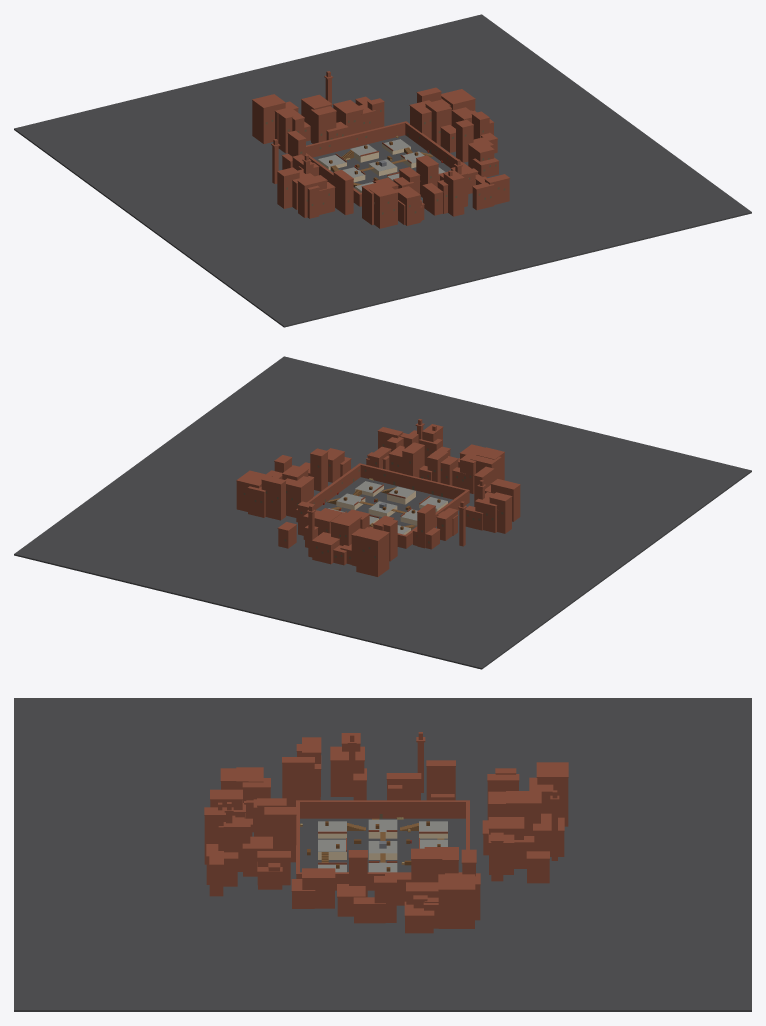
The model's file is fy_aq_rooftops.glb.
3 views of the same model, one above another, from view 1: azimuth 30°, elevation 25°; view 2: azimuth 150°, elevation 25°; view 3: azimuth 270°, elevation 25° (orthographic). The views are drawn at different scales.
Visible parts, largest first — view 1: skyline, fy_aq_rooftops; view 2: skyline, fy_aq_rooftops; view 3: skyline, fy_aq_rooftops.
Boxes of the visible parts, left/top/right/bottom form: skyline: left=14, top=14, right=751, bottom=327; fy_aq_rooftops: left=306, top=121, right=462, bottom=206; skyline: left=14, top=356, right=751, bottom=669; fy_aq_rooftops: left=296, top=463, right=469, bottom=548; skyline: left=14, top=698, right=751, bottom=1011; fy_aq_rooftops: left=296, top=800, right=469, bottom=890.
Size of the model in its own units: 13072 by 1401 by 13072.
